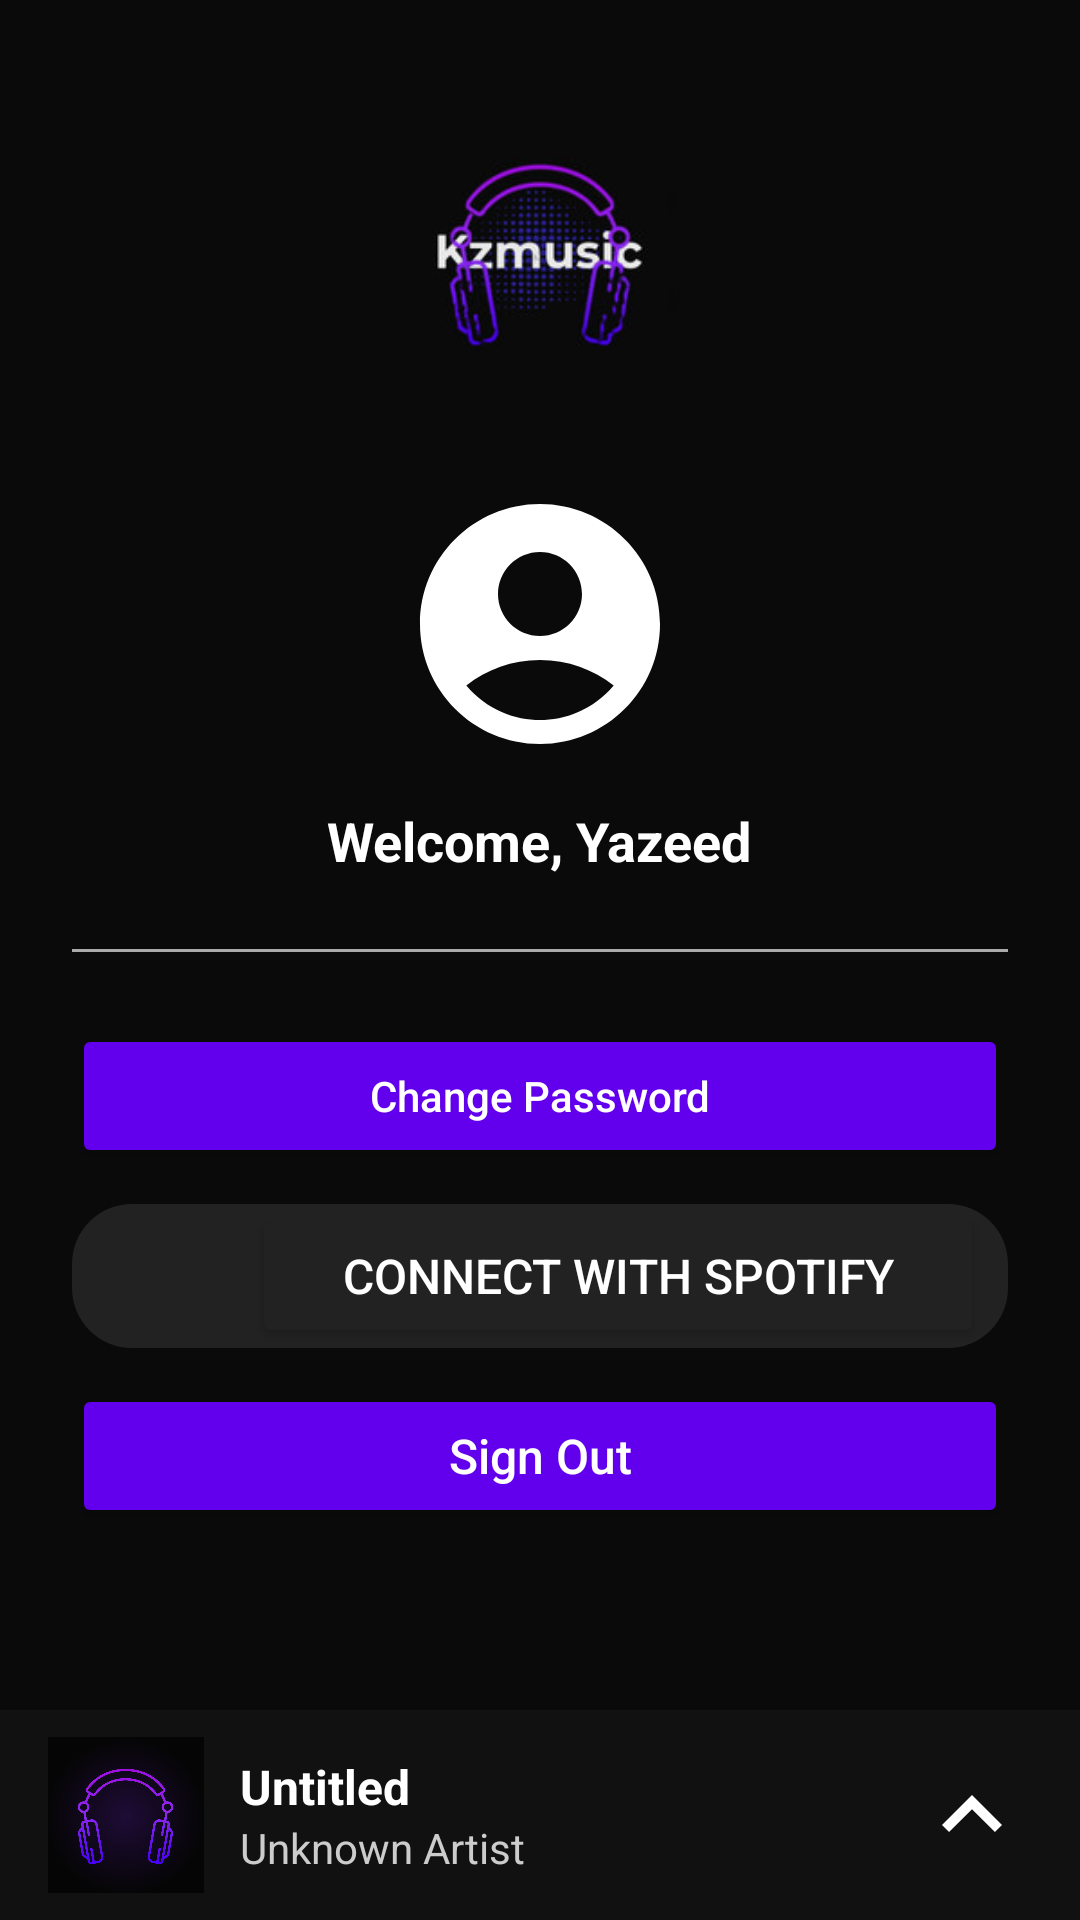

Named icons in this screenshot (1080×1920) and their centers, [x,y]:
Account Icon: [540,624]
